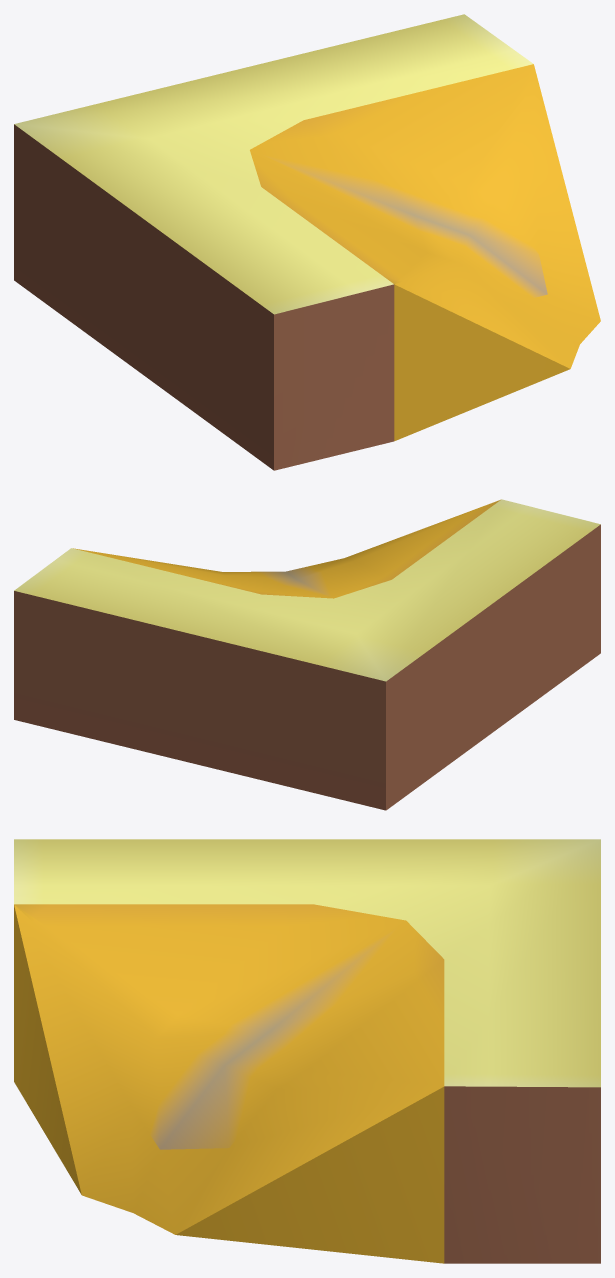
Rendered from Shore.Corner.C.Desert.glb.
3 renders of one model, top to bottom at view 1: azimuth 30°, elevation 25°; view 2: azimuth 150°, elevation 25°; view 3: azimuth 270°, elevation 25°, orthographic. The views are drawn at different scales.
Parts seen in each view (by area): view 1: Shore.Corner.C.Desert; view 2: Shore.Corner.C.Desert; view 3: Shore.Corner.C.Desert.
Part boxes in pixels (left/top/right/bottom): Shore.Corner.C.Desert: left=14, top=14, right=600, bottom=470; Shore.Corner.C.Desert: left=14, top=499, right=600, bottom=810; Shore.Corner.C.Desert: left=14, top=839, right=600, bottom=1263.
Bounding box in the file's own units: 3 × 1 × 3.
1 material, 1 textured.
